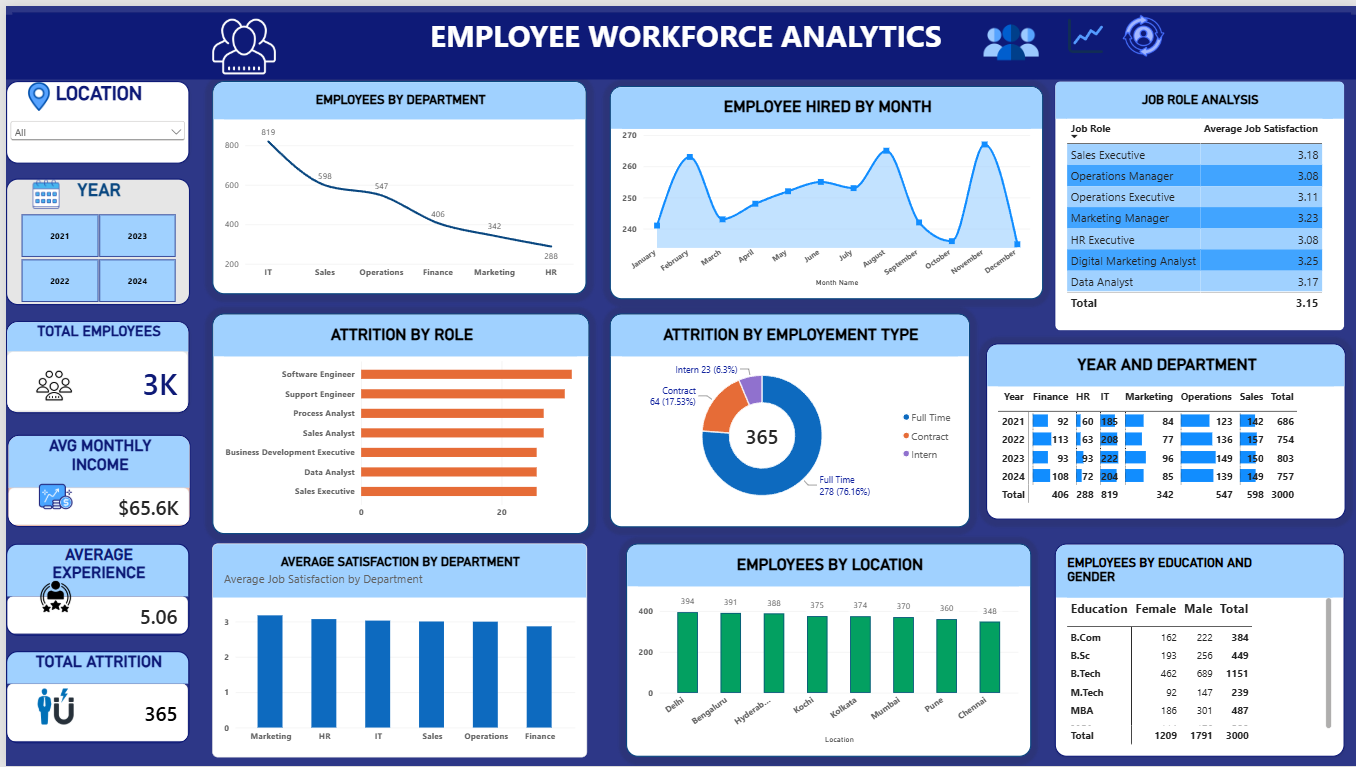

The page's visual inventory and layout, read from the dashboard file:
{"tool":"powerbi","page":{"name":"Page 1","canvas":[1920,1080],"ordinal":0},"visuals":[{"type":"slicer","title":"LOCATION","fields":{"Values":["Employee Data.Location"]},"box":[0,106.6,261.1,117.2],"z":0},{"type":"slicer","title":"YEAR","fields":{"Values":["Employee Data.Year"]},"box":[0,245.2,261.6,179.7],"z":1000},{"type":"cardVisual","title":"AVG MONTHLY INCOME","fields":{"Data":["Employee Data.Average Monthly Income"]},"box":[1.8,609.3,261,131],"z":2000},{"type":"lineChart","title":"EMPLOYEES BY DEPARTMENT","fields":{"Category":["Employee Data.Department"],"Y":["Employee Data.Total Employees"]},"box":[292.4,107.3,532.2,302.9],"z":4000},{"type":"lineChart","title":"EMPLOYEE HIRED BY MONTH","fields":{"Category":["Employee Data.Month Name"],"Y":["CountNonNull(Employee Data.Employee ID)"]},"box":[858.2,113.6,616.3,302.9],"z":5000},{"type":"lineClusteredColumnComboChart","title":"EMPLOYEES BY LOCATION","fields":{"Category":["Employee Data.Location"],"Y":["Employee Data.Total Employees"]},"box":[881.3,763.5,576.3,302.9],"z":6000},{"type":"donutChart","title":"ATTRITION BY EMPLOYEMENT TYPE","fields":{"Category":["Employee Data.Employment Type"],"Y":["Employee Data.Total Attrition"]},"box":[858.2,437.5,511.6,303.8],"z":7000},{"type":"columnChart","title":"AVERAGE SATISFACTION BY DEPARTMENT","fields":{"Category":["Employee Data.Department"],"Y":["Employee Data.Average Job Satisfaction"]},"box":[292.4,763.5,532.9,303.8],"z":8000},{"type":"barChart","title":"ATTRITION BY ROLE","fields":{"Category":["Employee Data.Job Role"],"Y":["Employee Data.Total Attrition"]},"box":[292.4,437.5,536.4,313.4],"z":9000},{"type":"pivotTable","title":"YEAR AND DEPARTMENT","fields":{"Columns":["Employee Data.Department"],"Rows":["Employee Data.Year"],"Values":["Employee Data.Total Employees"]},"box":[1392.5,479.6,511.1,250.3],"z":10000},{"type":"tableEx","title":"JOB ROLE ANALYSIS","fields":{"Values":["Employee Data.Job Role","Employee Data.Average Job Satisfaction"]},"box":[1491.3,107.3,412.3,355.5],"z":11000},{"type":"shape","box":[0,0,1920.4,90.6],"z":12000},{"type":"textbox","box":[0,12.4,1920.4,92.4],"z":13000},{"type":"image","box":[1325.2,12.4,206.1,78.2],"z":14000},{"type":"image","box":[1407,12.4,254,60.4],"z":15000},{"type":"image","box":[1492.2,12.4,248.7,60.4],"z":16000},{"type":"image","box":[0,108.4,94.2,40.9],"z":17000},{"type":"cardVisual","title":"TOTAL EMPLOYEES","fields":{"Data":["Employee Data.Total Employees"]},"box":[0,447.7,261.1,131.5],"z":18000},{"type":"image","box":[16,513.4,105,51.5],"z":19000},{"type":"pivotTable","title":"EMPLOYEES BY EDUCATION AND GENDER","fields":{"Columns":["Employee Data.Gender"],"Rows":["Employee Data.Education"],"Values":["Employee Data.Total Employees"]},"box":[1491.3,763.5,412.3,302.9],"z":19001},{"type":"cardVisual","title":"TOTAL ATTRITION","fields":{"Data":["Employee Data.Total Attrition"]},"box":[0,916.7,261,131],"z":19002},{"type":"image","box":[1.8,245.2,110.1,44.4],"z":19003},{"type":"image","box":[17.8,671.5,105,51],"z":19004},{"type":"cardVisual","title":"AVERAGE EXPERIENCE","fields":{"Data":["Employee Data.Average Experience"]},"box":[0,763.9,261.1,131],"z":19006},{"type":"image","box":[17.8,813.6,105,51],"z":19007},{"type":"image","box":[17.8,969.9,105,51],"z":19008},{"type":"image","box":[188.3,12.4,300.2,90.6],"z":19009}]}

Visuals, with their boxes in screenshot pixels (x1, y1, x2, y2), scaled from the page's 1920x1080 canvas onto the 1356x767 screenshot:
"LOCATION" slicer: select_region(0, 76, 184, 159)
"YEAR" slicer: select_region(0, 174, 185, 302)
"AVG MONTHLY INCOME" cardVisual: select_region(1, 433, 186, 526)
"EMPLOYEES BY DEPARTMENT" lineChart: select_region(207, 76, 582, 291)
"EMPLOYEE HIRED BY MONTH" lineChart: select_region(606, 81, 1041, 296)
"EMPLOYEES BY LOCATION" lineClusteredColumnComboChart: select_region(622, 542, 1029, 757)
"ATTRITION BY EMPLOYEMENT TYPE" donutChart: select_region(606, 311, 967, 526)
"AVERAGE SATISFACTION BY DEPARTMENT" columnChart: select_region(207, 542, 583, 758)
"ATTRITION BY ROLE" barChart: select_region(207, 311, 585, 533)
"YEAR AND DEPARTMENT" pivotTable: select_region(983, 341, 1344, 518)
"JOB ROLE ANALYSIS" tableEx: select_region(1053, 76, 1344, 329)
shape: select_region(0, 0, 1355, 64)
textbox: select_region(0, 9, 1355, 74)
image: select_region(936, 9, 1081, 64)
image: select_region(994, 9, 1173, 52)
image: select_region(1054, 9, 1230, 52)
image: select_region(0, 77, 67, 106)
"TOTAL EMPLOYEES" cardVisual: select_region(0, 318, 184, 411)
image: select_region(11, 365, 85, 401)
"EMPLOYEES BY EDUCATION AND GENDER" pivotTable: select_region(1053, 542, 1344, 757)
"TOTAL ATTRITION" cardVisual: select_region(0, 651, 184, 744)
image: select_region(1, 174, 79, 206)
image: select_region(13, 477, 87, 513)
"AVERAGE EXPERIENCE" cardVisual: select_region(0, 543, 184, 636)
image: select_region(13, 578, 87, 614)
image: select_region(13, 689, 87, 725)
image: select_region(133, 9, 345, 73)
